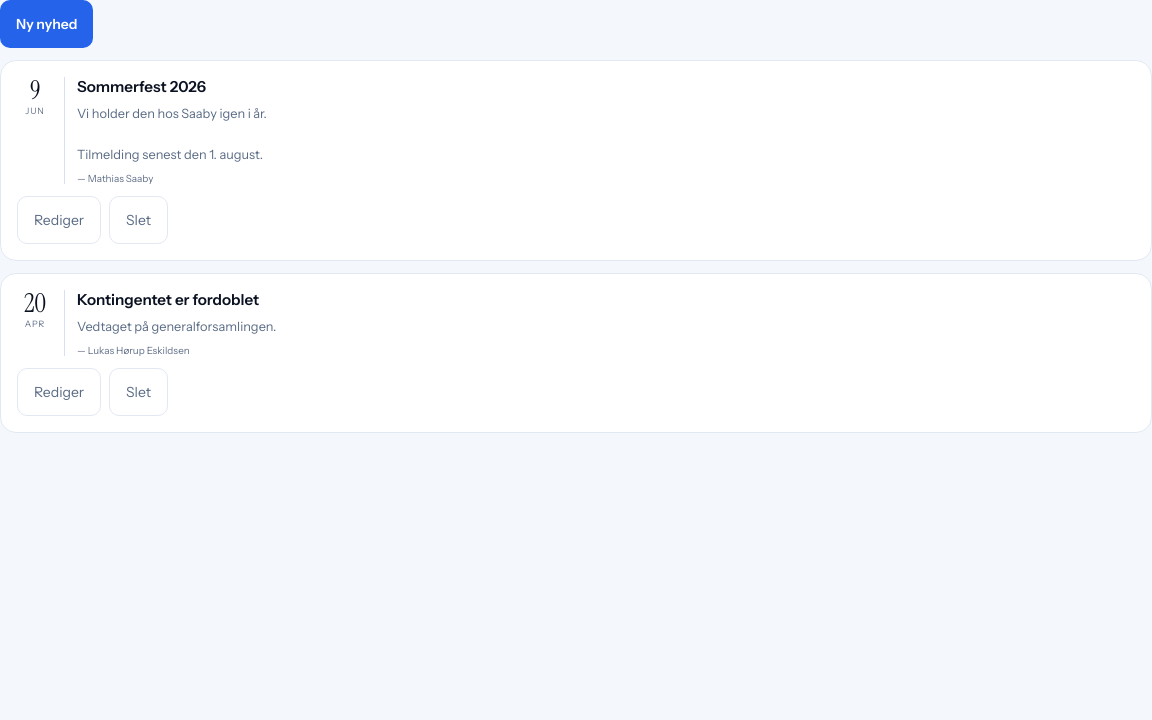
Test case: writing a news item › refuses to save a news item with no headline
Click the button "Ny nyhed" at [47, 24], box top-left (0, 0), bottom-right (94, 48)
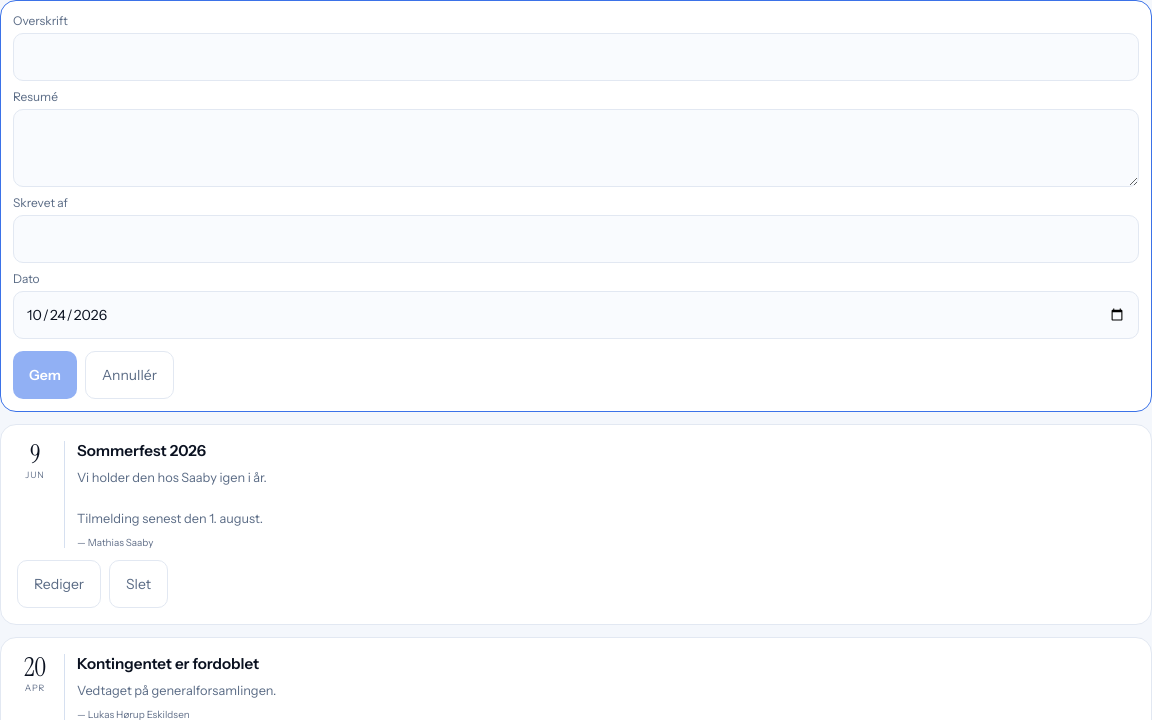
Now the button "Gem" is disabled, box top-left (13, 351), bottom-right (77, 399)
Type "Noget" into the field labelled "Overskrift" at [576, 57], box top-left (13, 33), bottom-right (1139, 81)
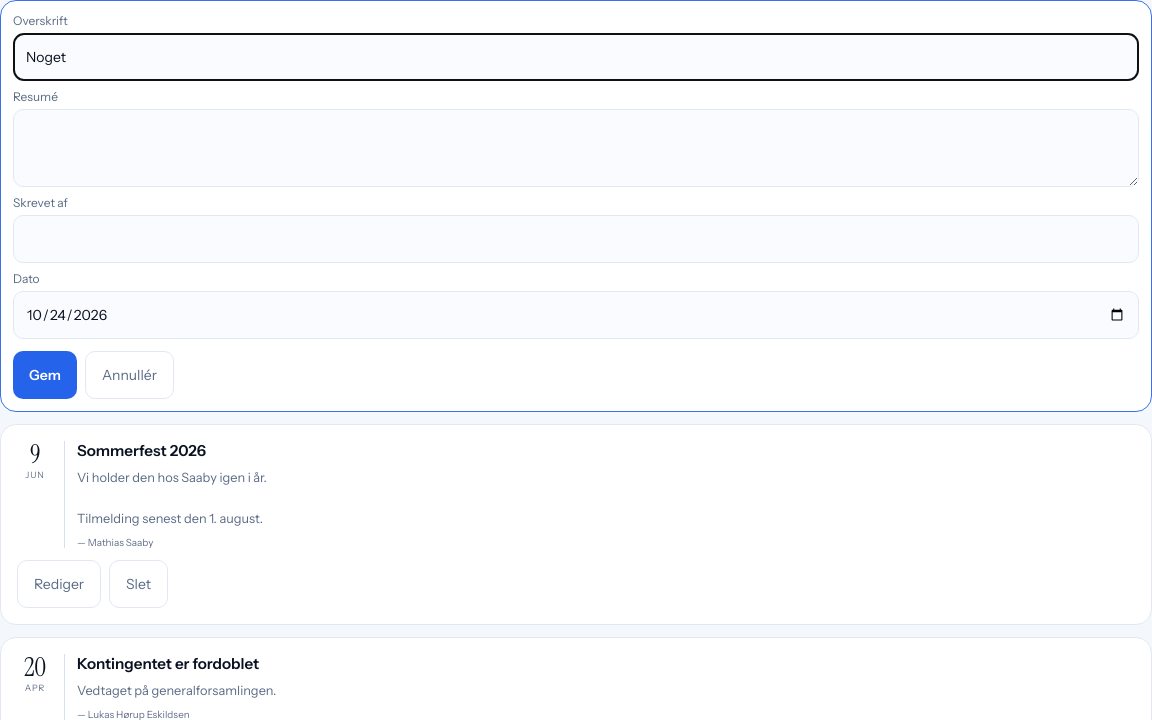
Now the button "Gem" is enabled, box top-left (13, 351), bottom-right (77, 399)
